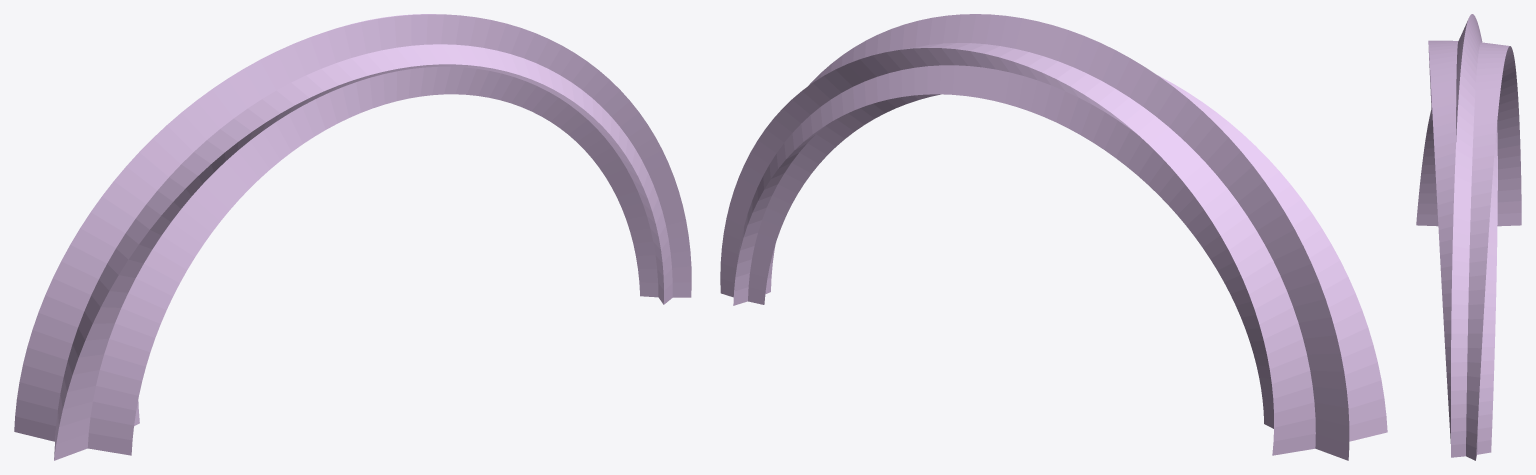
Rendered from example.gltf.
3 views of the same model, side by side, from view 1: azimuth 30°, elevation 25°; view 2: azimuth 150°, elevation 25°; view 3: azimuth 270°, elevation 25° (orthographic). The views are drawn at different scales.
Visible parts, largest first — view 1: sweep; view 2: sweep; view 3: sweep.
Boxes of the visible parts, x1,y1,x2,y2 form: sweep: [14, 14, 691, 460]; sweep: [720, 14, 1387, 460]; sweep: [1416, 14, 1521, 460].
Size of the model in its own units: 3.36 by 1.72 by 0.5706.
